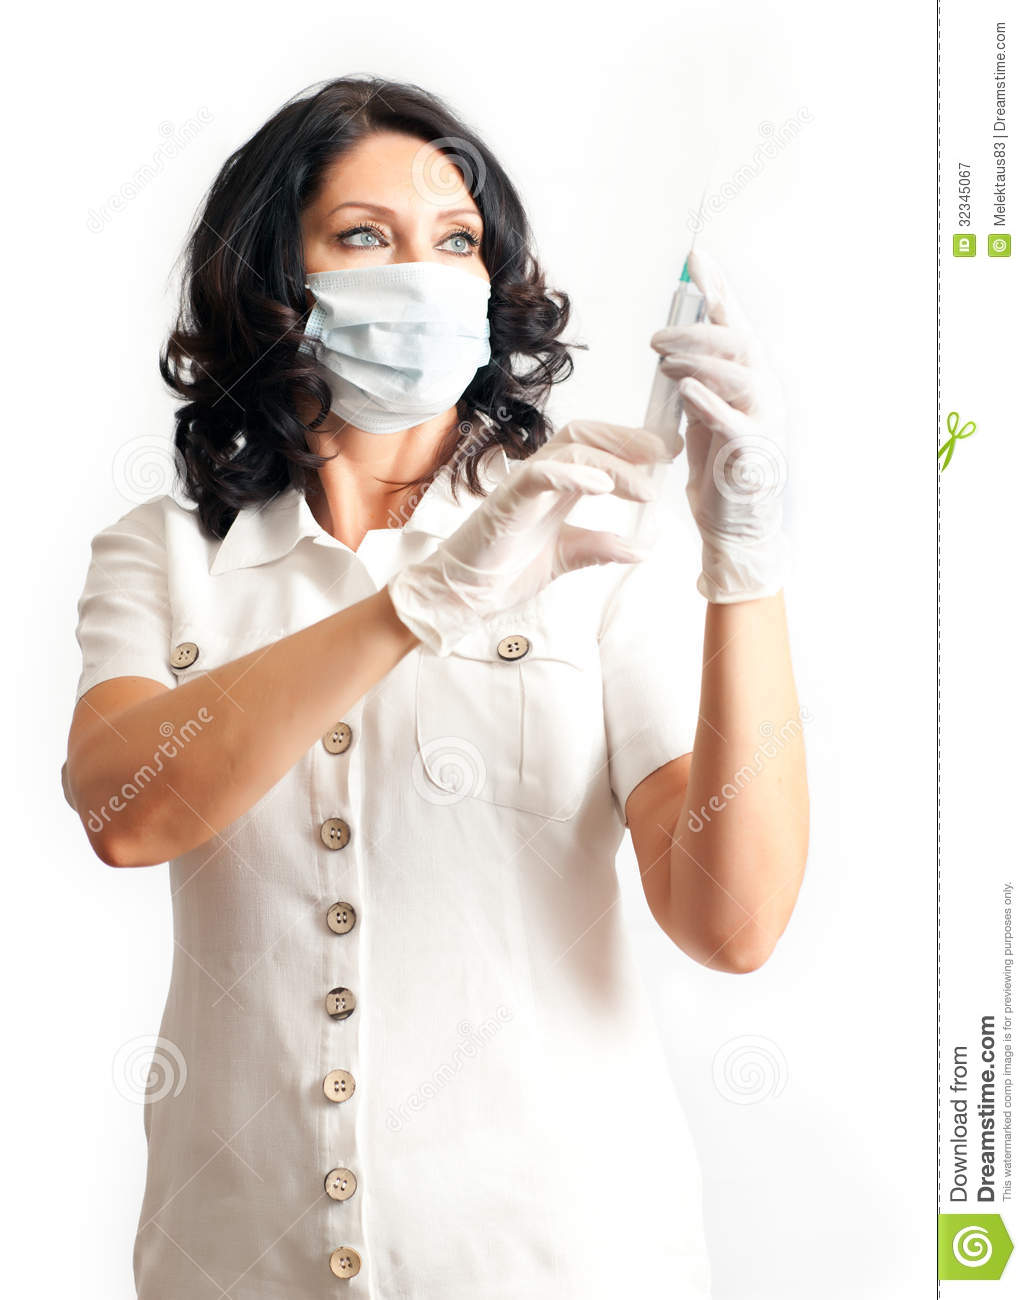mask: (294, 259, 519, 429)
